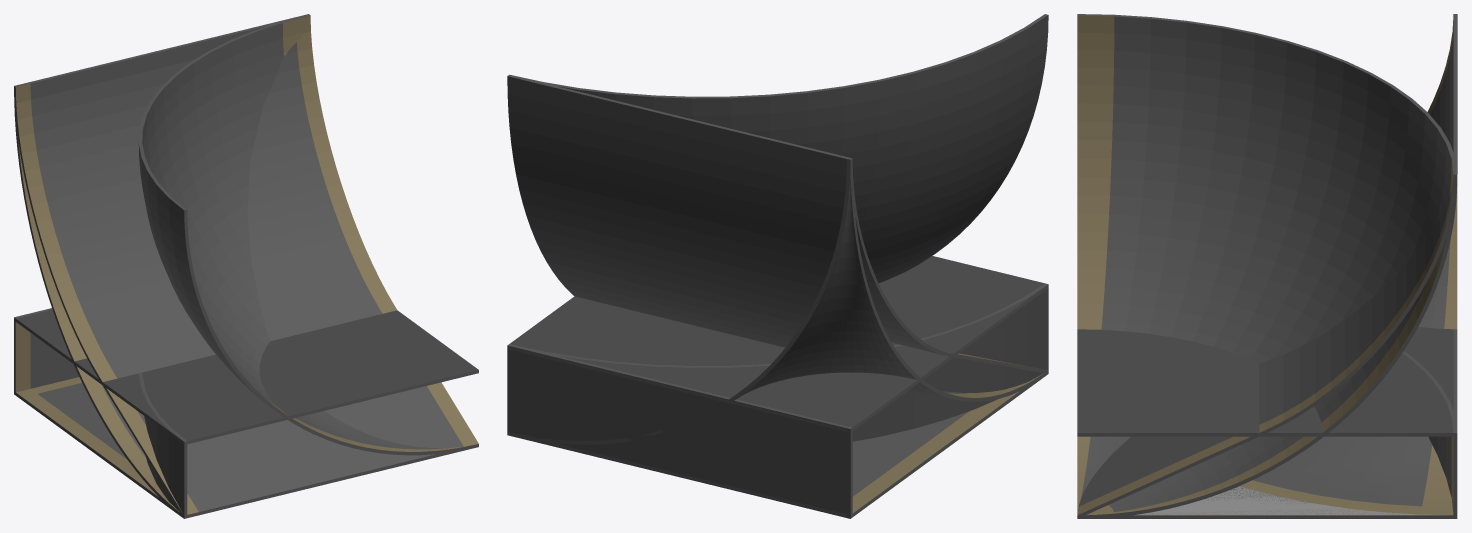
File: wall_track.glb
3 renders of one model, left to right at view 1: azimuth 30°, elevation 25°; view 2: azimuth 150°, elevation 25°; view 3: azimuth 270°, elevation 25°, orthographic. The views are drawn at different scales.
Parts seen in each view (by area): view 1: WallTrackSlopeToVertical, WallTrackBottomCorner, WallTrackCeiling, WallTrackFloor, WallTrackBottom, WallTrackMiddle, WallTrackMiddleCorner; view 2: WallTrackBottom, WallTrackBottomCorner, WallTrackCeiling, WallTrackMiddle, WallTrackBottomInnerCorner, WallTrackMiddleCorner, WallTrackFloor, WallTrackSlopeToVertical; view 3: WallTrackBottomCorner, WallTrackCeiling, WallTrackSlopeToVertical, WallTrackBottomInnerCorner, WallTrackFloorPlaneCorner, WallTrackBottom, WallTrackMiddleCorner, WallTrackFloor, WallTrackFloorCorner, WallTrackMiddle.
Boxes of the visible parts, x1,y1,x2,y2 form: WallTrackSlopeToVertical: (14, 14, 478, 517); WallTrackBottomCorner: (138, 15, 475, 455); WallTrackCeiling: (15, 309, 478, 444); WallTrackFloor: (15, 377, 342, 518); WallTrackBottom: (14, 101, 179, 512); WallTrackMiddle: (14, 308, 79, 395); WallTrackMiddleCorner: (138, 372, 187, 518); WallTrackBottom: (507, 76, 1043, 401); WallTrackBottomCorner: (514, 14, 1048, 282); WallTrackCeiling: (507, 256, 1048, 432); WallTrackMiddle: (507, 344, 852, 518); WallTrackBottomInnerCorner: (507, 158, 1042, 444); WallTrackMiddleCorner: (507, 283, 1048, 441); WallTrackFloor: (513, 370, 1048, 517); WallTrackSlopeToVertical: (507, 74, 1048, 372); WallTrackBottomCorner: (1077, 14, 1456, 518); WallTrackCeiling: (1077, 327, 1453, 436); WallTrackSlopeToVertical: (1077, 14, 1457, 518); WallTrackBottomInnerCorner: (1240, 187, 1457, 515); WallTrackFloorPlaneCorner: (1134, 486, 1446, 515); WallTrackBottom: (1080, 174, 1457, 518); WallTrackMiddleCorner: (1402, 351, 1457, 518); WallTrackFloor: (1078, 515, 1453, 518); WallTrackFloorCorner: (1137, 487, 1445, 515); WallTrackMiddle: (1453, 329, 1457, 432).
Size of the model in its own units: 20 by 20 by 20.
